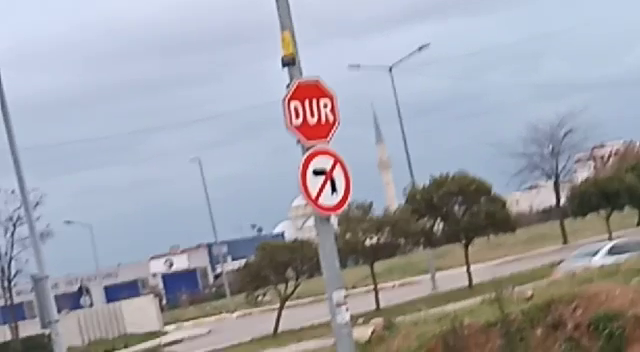no_left: (295, 146, 355, 215)
stop: (279, 74, 343, 147)
